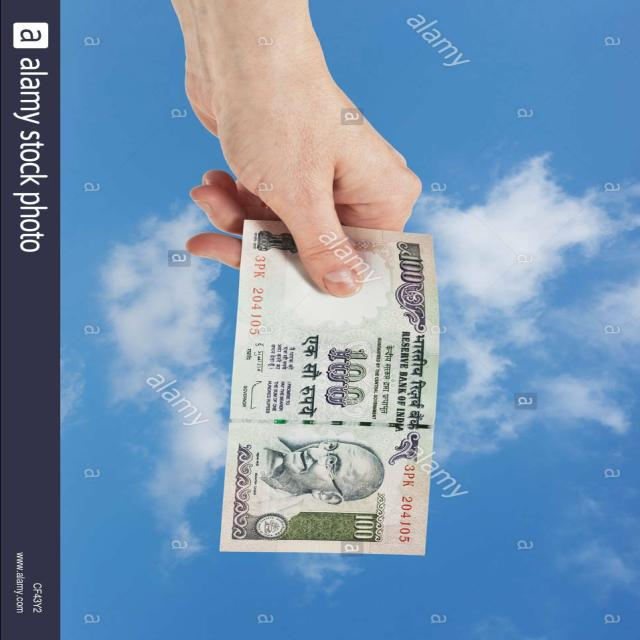100IndianRupees: (217, 220, 439, 554)
